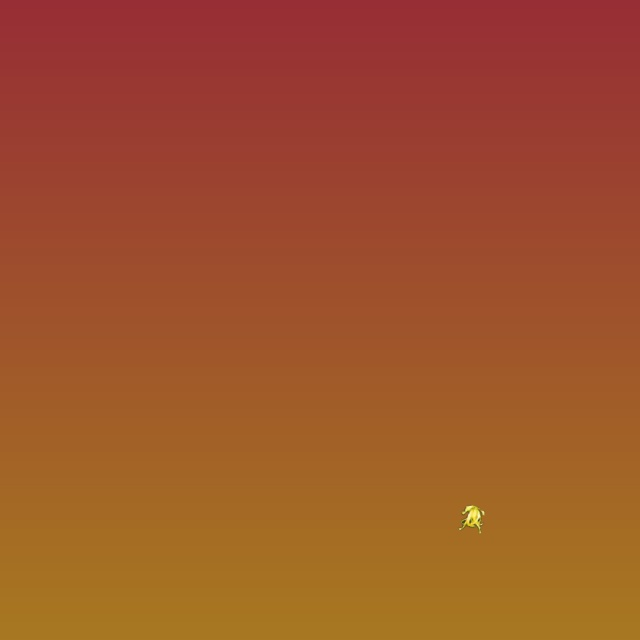ylang-ylang: (459, 505, 484, 533)
